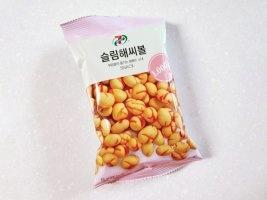snack: (59, 15, 204, 188)
